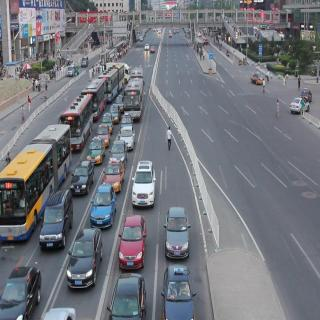BigCar: (0, 123, 71, 243), (125, 75, 149, 116)
Car: (3, 260, 37, 320), (157, 263, 192, 320), (41, 188, 72, 252), (74, 217, 100, 290), (112, 270, 145, 320), (90, 174, 116, 231), (119, 214, 146, 261), (168, 207, 192, 255), (134, 162, 158, 208), (71, 156, 94, 198), (102, 156, 123, 192), (110, 136, 129, 170), (88, 136, 105, 167), (291, 97, 310, 116), (96, 124, 111, 145), (107, 101, 119, 121), (251, 71, 265, 87), (101, 110, 112, 130), (301, 83, 312, 103), (65, 61, 77, 78)
